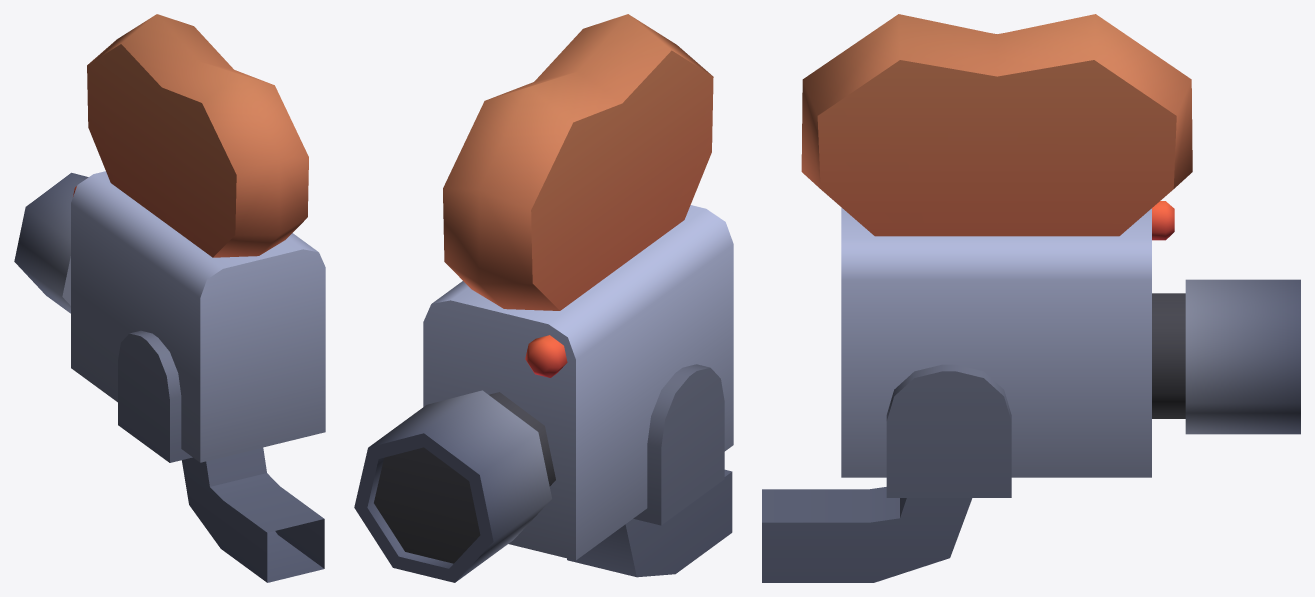
The model's file is security_cam.glb.
3 renders of one model, left to right at view 1: azimuth 30°, elevation 25°; view 2: azimuth 150°, elevation 25°; view 3: azimuth 270°, elevation 25°, orthographic. The views are drawn at different scales.
Parts seen in each view (by area): view 1: Cube.020; view 2: Cube.020; view 3: Cube.020.
Part boxes in pixels (<box>): Cube.020: <box>14,14,325,582</box>; Cube.020: <box>354,14,733,582</box>; Cube.020: <box>762,14,1300,582</box>.
Size of the model in its own units: 0.2575 by 0.7631 by 0.6748.
1 material, 1 textured.
